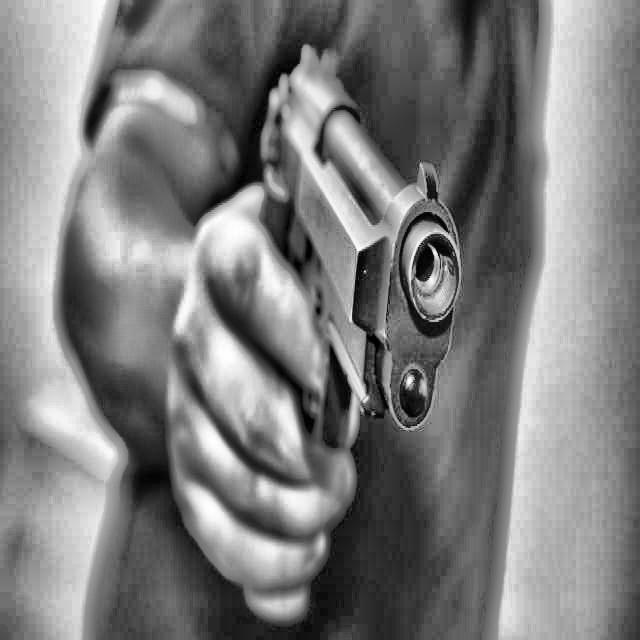pistol: (212, 32, 498, 634)
